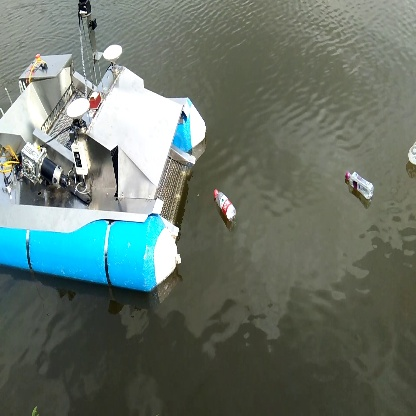bottle: (342, 170, 377, 202), (212, 187, 238, 223)
